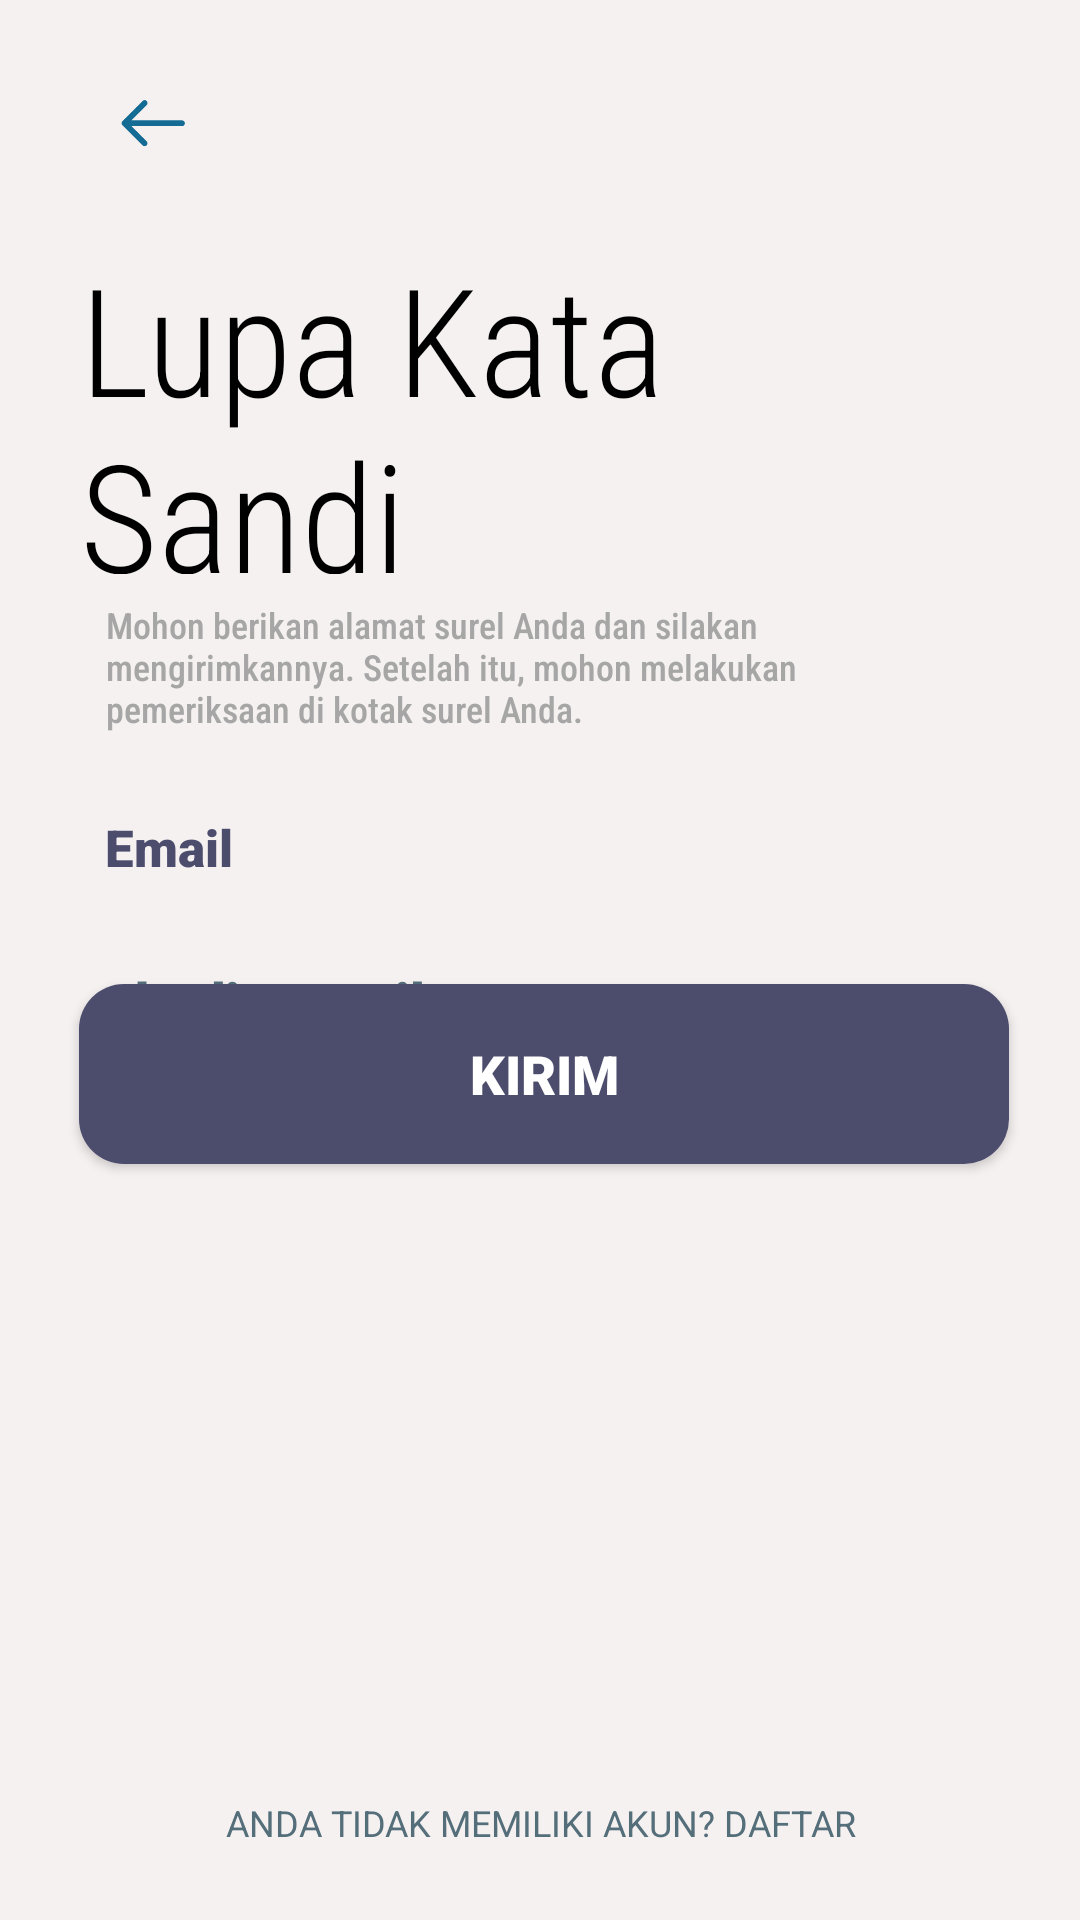

Icons on this 1080px x 1920px Android screen, each with its box as rect(x1, y1, x2, y2):
back arrow: rect(121, 100, 185, 146)
